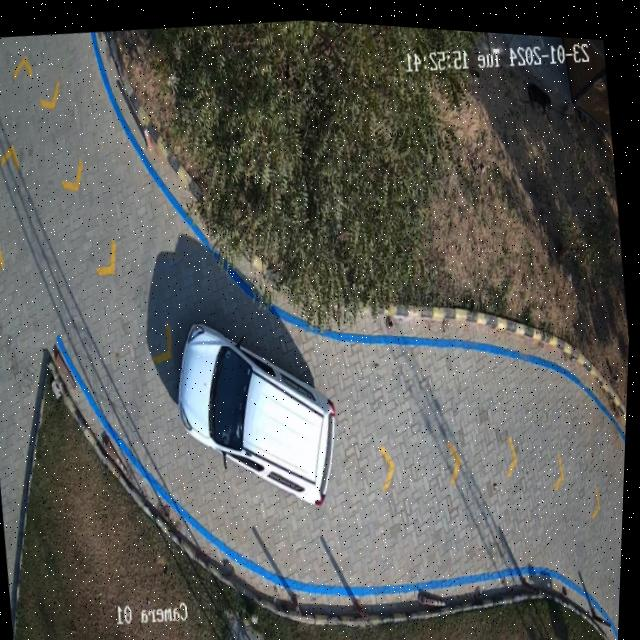car: (178, 319, 338, 504)
